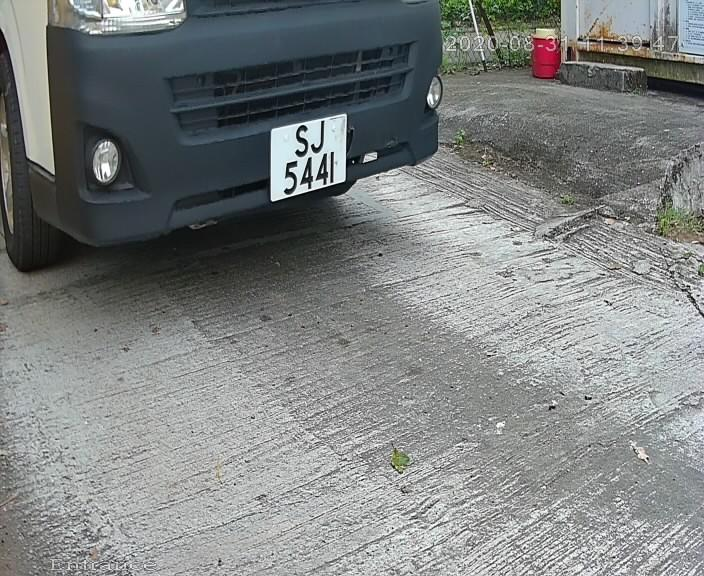License Plate: (258, 109, 362, 206)
